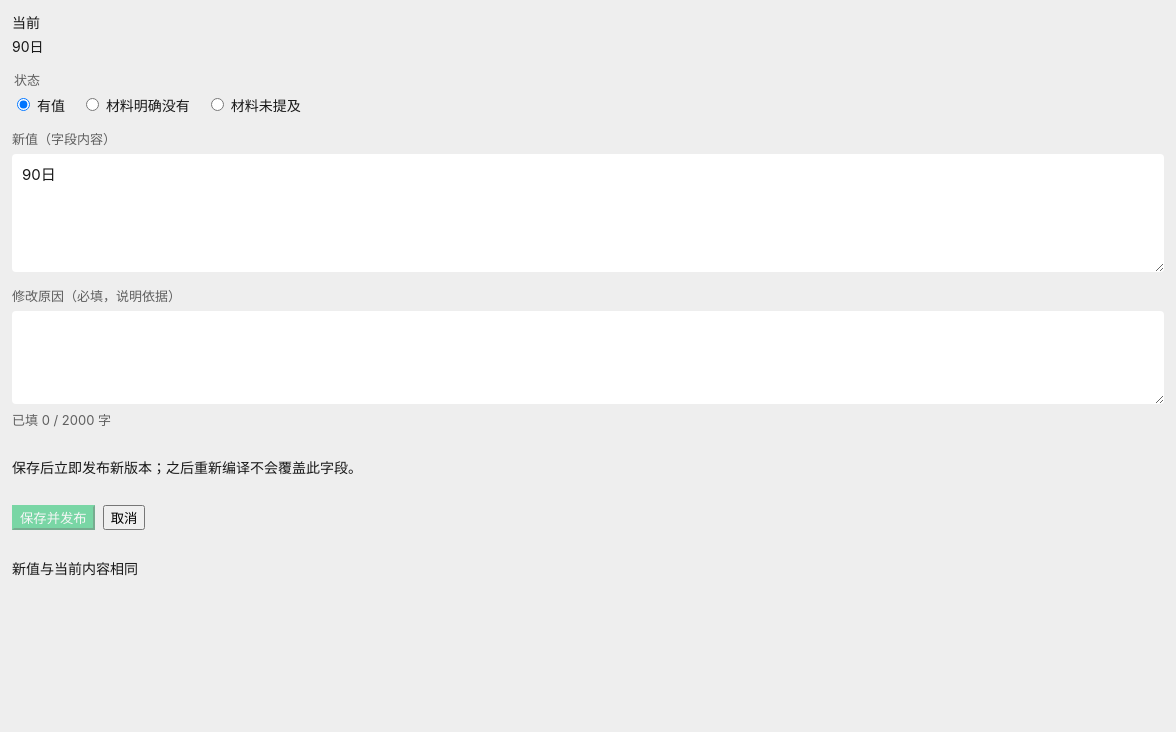
Test: refusals › SERVICE_UNAVAILABLE (503) explains itself and keeps the input
This screenshot has width=1176, height=732.
Replace the text in the text box labelled "新值（字段内容）" with "180日": (588, 213) [12,154,1164,272]
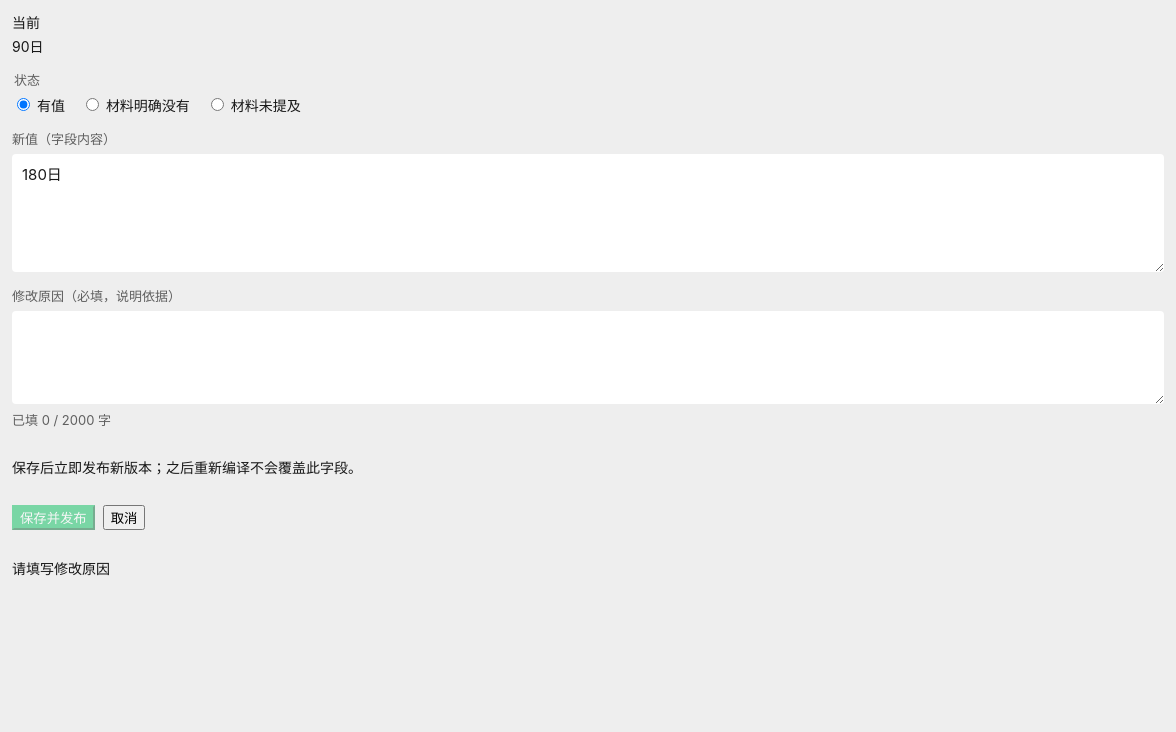
In the text box labelled "修改原因（必填，说明依据） 已填 0 / 2000 字": (588, 357) [12,311,1164,404], type "备案条款第五条"
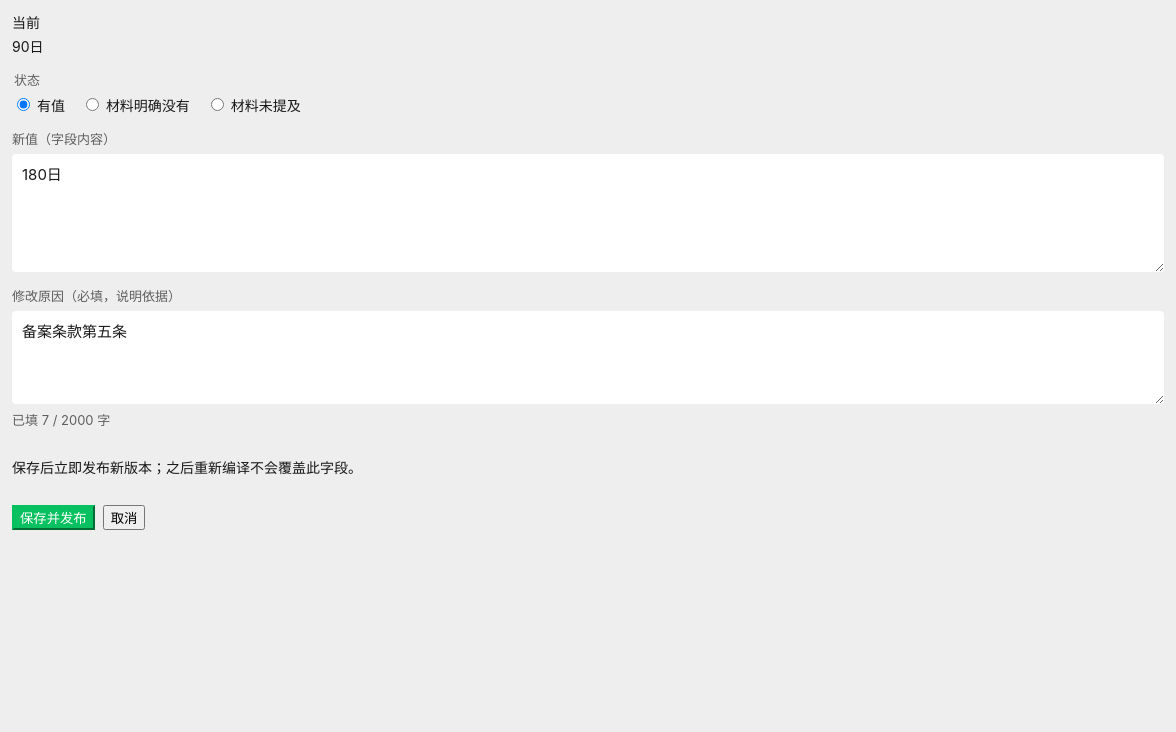
Click the button "保存并发布": (53, 517) [12,504,95,530]
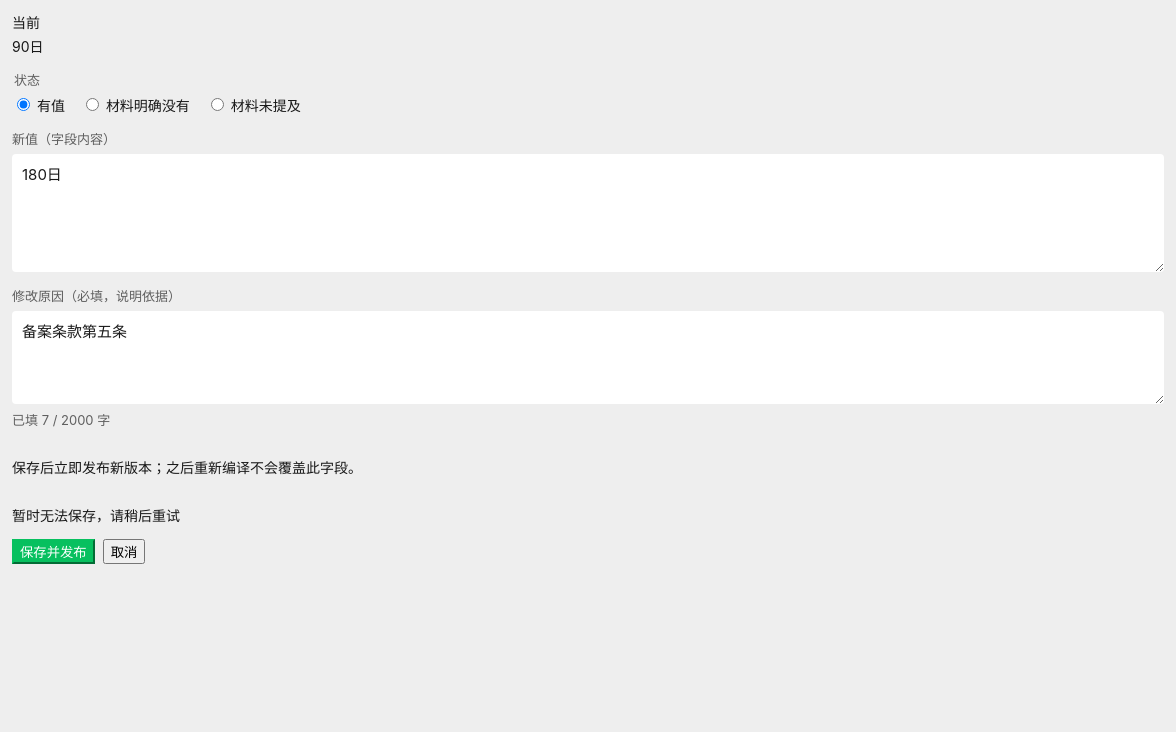
Expected: the message "暂时无法保存，请稍后重试" is shown, [12,506,180,524]
